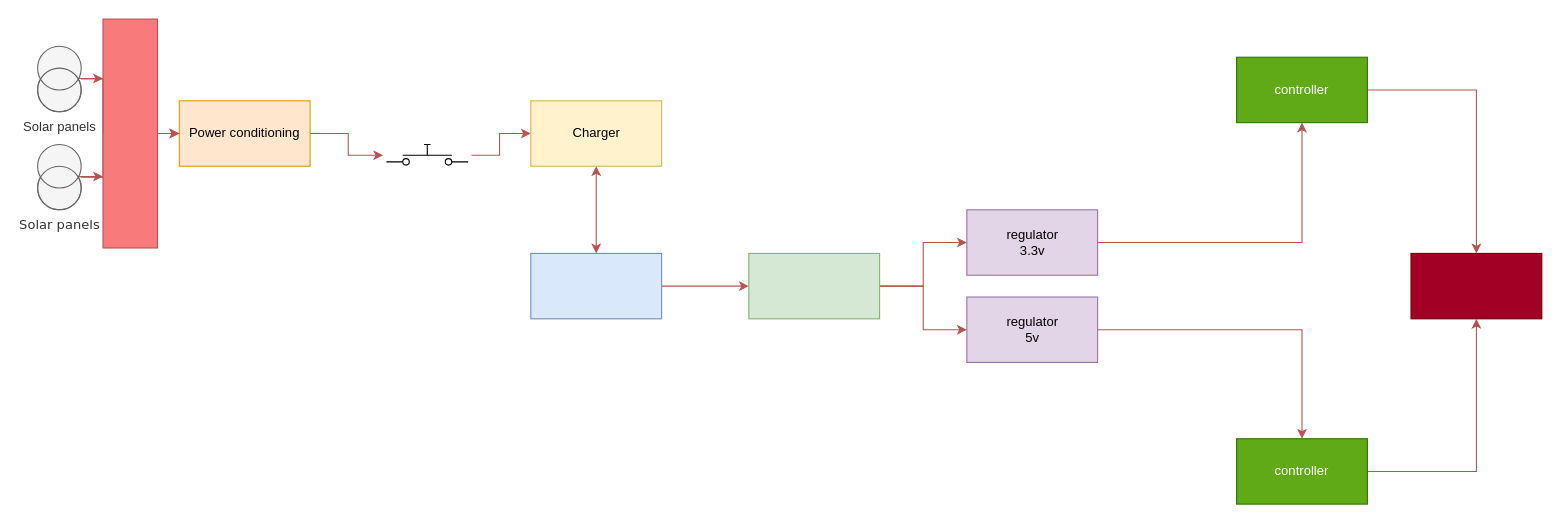
This 1561x523 diagram has some shape labels left out. Each missing label, with the centre of its shape:
"Battery" belongs at point (596, 285).
"Battery Monitor" belongs at point (814, 285).
"Kill switch" belongs at point (426, 154).
"power distribution (PDM)" belongs at point (1476, 285).
